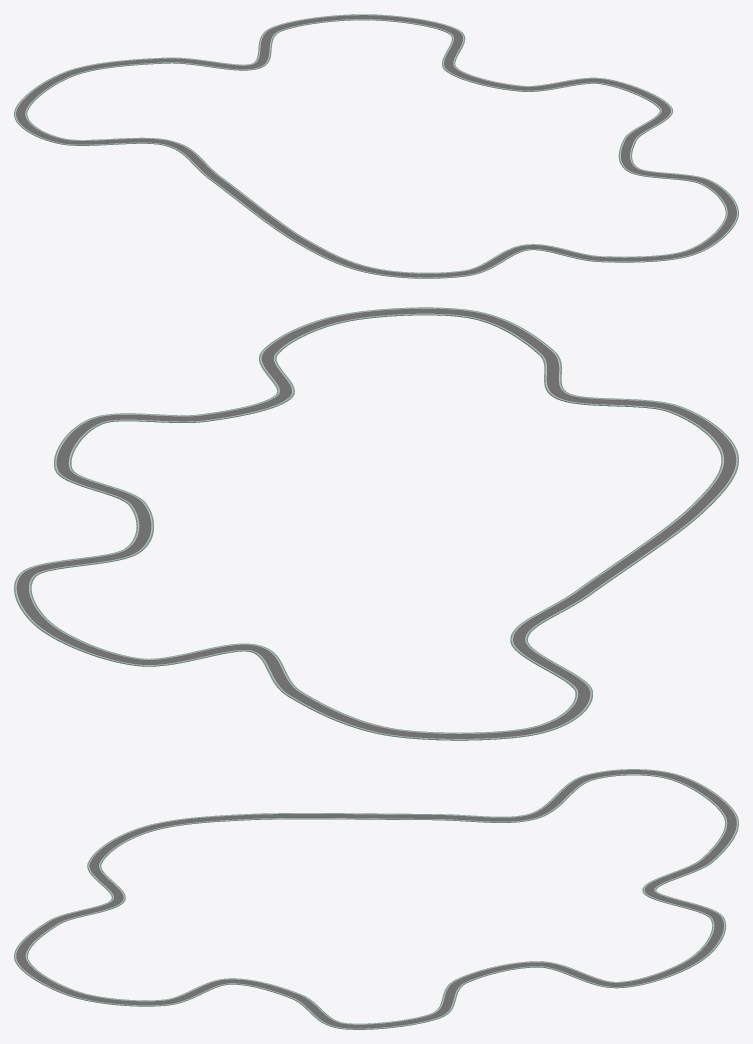
Rendered from road_pine_ridge.glb.
3 views of the same model, one above another, from view 1: azimuth 30°, elevation 25°; view 2: azimuth 150°, elevation 25°; view 3: azimuth 270°, elevation 25° (orthographic). The views are drawn at different scales.
Visible parts, largest first — view 1: road; view 2: road; view 3: road.
Boxes of the visible parts, x1=… form: road: x1=14, y1=14, x2=738, y2=278; road: x1=14, y1=307, x2=738, y2=740; road: x1=14, y1=769, x2=738, y2=1029.
Size of the model in its own units: 530 by 0.32 by 623.
